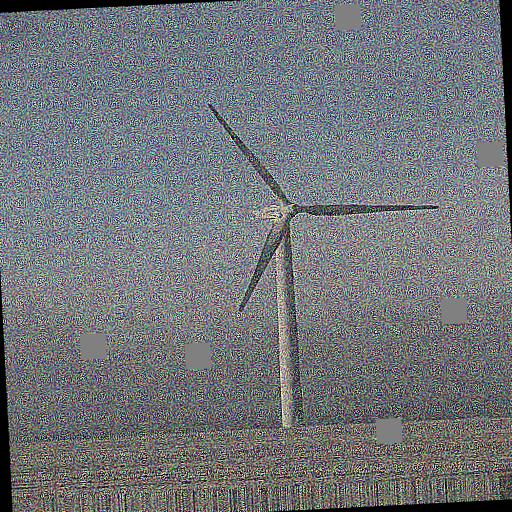wind turbine: (209, 103, 439, 426)
